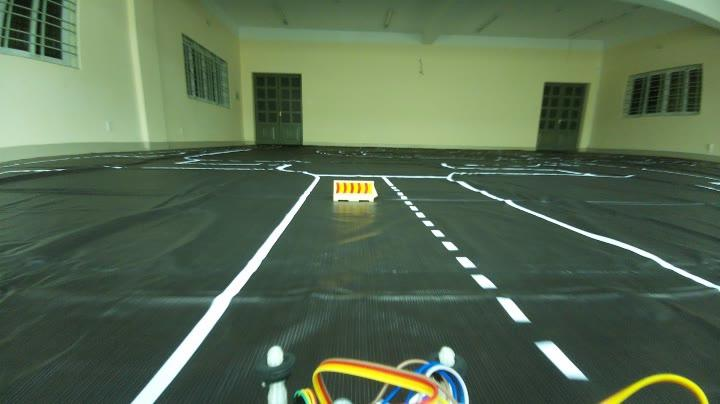roadblock: (328, 178, 371, 210)
